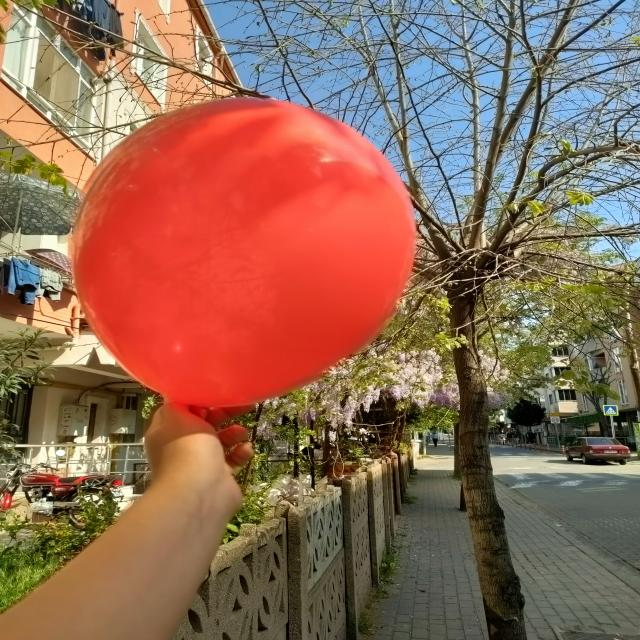red: (70, 99, 418, 409)
